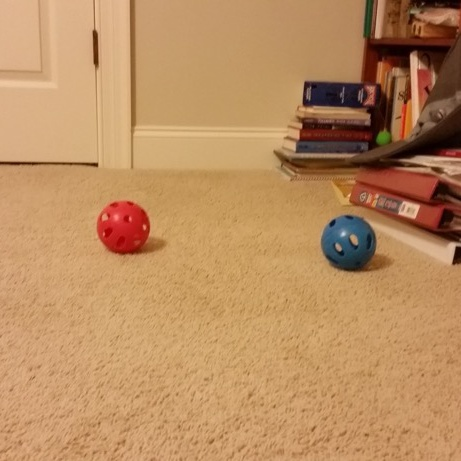ball: (314, 209, 381, 274), (92, 196, 155, 257)
